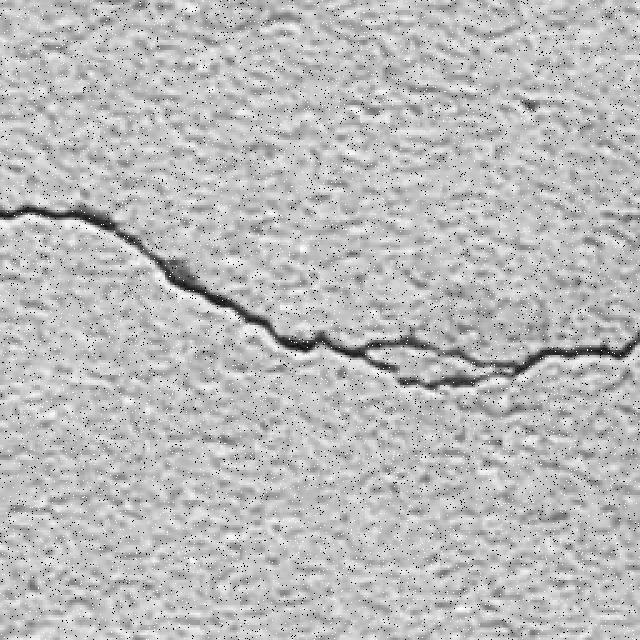crack: (1, 202, 638, 388), (134, 247, 306, 342)
